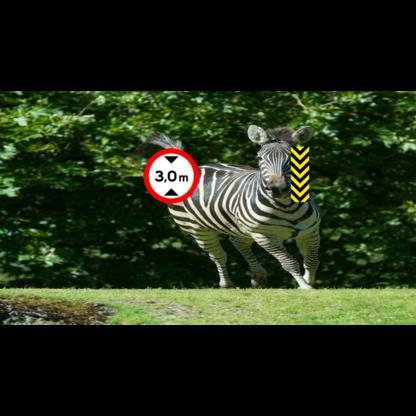O-MP: (291, 147, 309, 202)
R-15: (143, 148, 199, 203)
